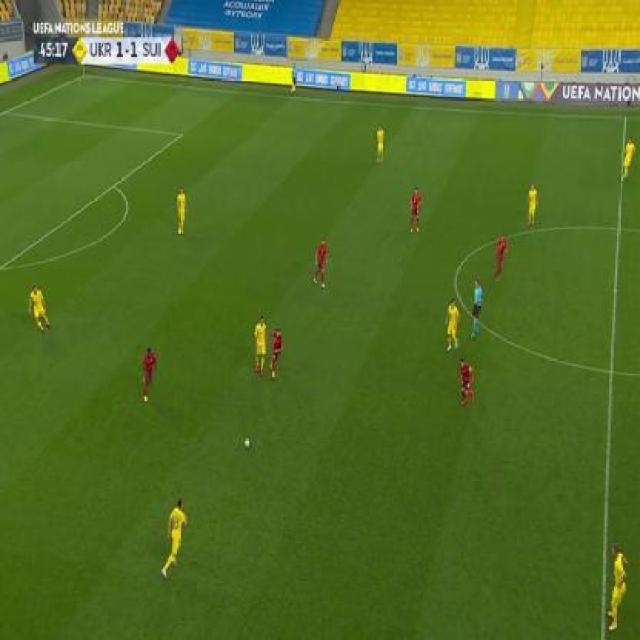ball: (243, 436, 251, 449)
player: (597, 543, 633, 631), (161, 499, 190, 584), (28, 283, 51, 336), (141, 345, 158, 407), (468, 278, 484, 341), (445, 298, 461, 354), (254, 315, 268, 378), (459, 356, 476, 407), (313, 237, 329, 290), (268, 329, 284, 380), (494, 232, 510, 280), (621, 137, 637, 182), (175, 186, 188, 239), (408, 186, 421, 235), (526, 183, 540, 228), (376, 124, 384, 166), (290, 61, 298, 97)
